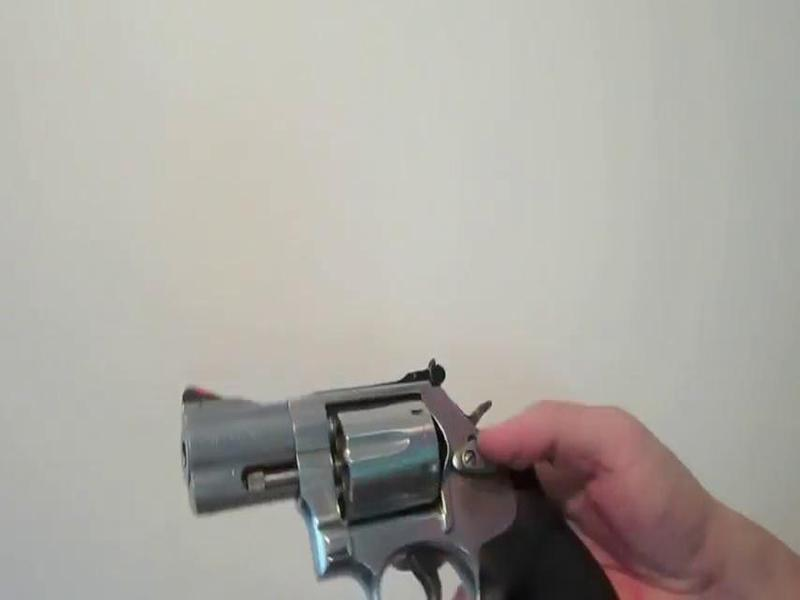Revolver: (154, 330, 632, 600)
